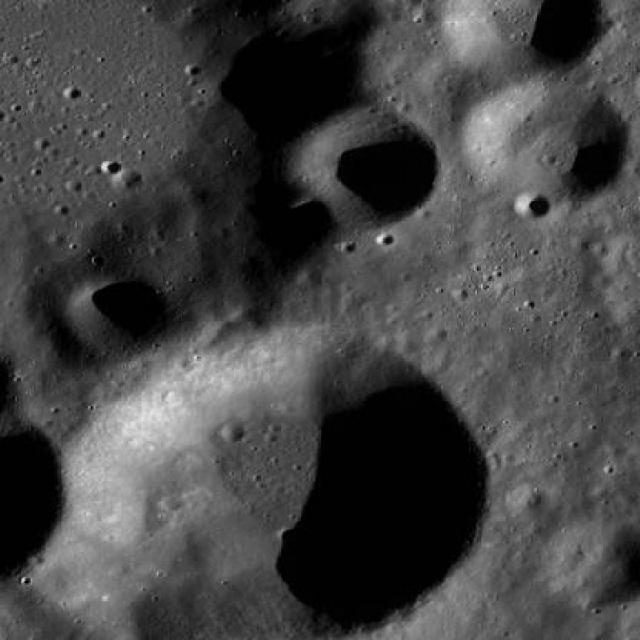crater: (462, 78, 633, 210), (285, 109, 443, 229), (462, 198, 612, 314), (442, 0, 606, 82), (65, 270, 173, 352), (293, 0, 381, 45), (420, 60, 478, 105), (508, 484, 546, 512), (516, 189, 552, 217), (114, 168, 140, 188), (208, 318, 234, 338), (604, 255, 628, 274), (222, 424, 244, 442), (300, 267, 323, 284), (232, 306, 254, 323), (275, 524, 297, 541), (616, 490, 636, 506), (400, 338, 420, 354), (0, 0, 2, 2), (0, 0, 1, 2)
